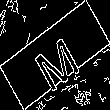M_NW: (27, 21, 83, 89)
